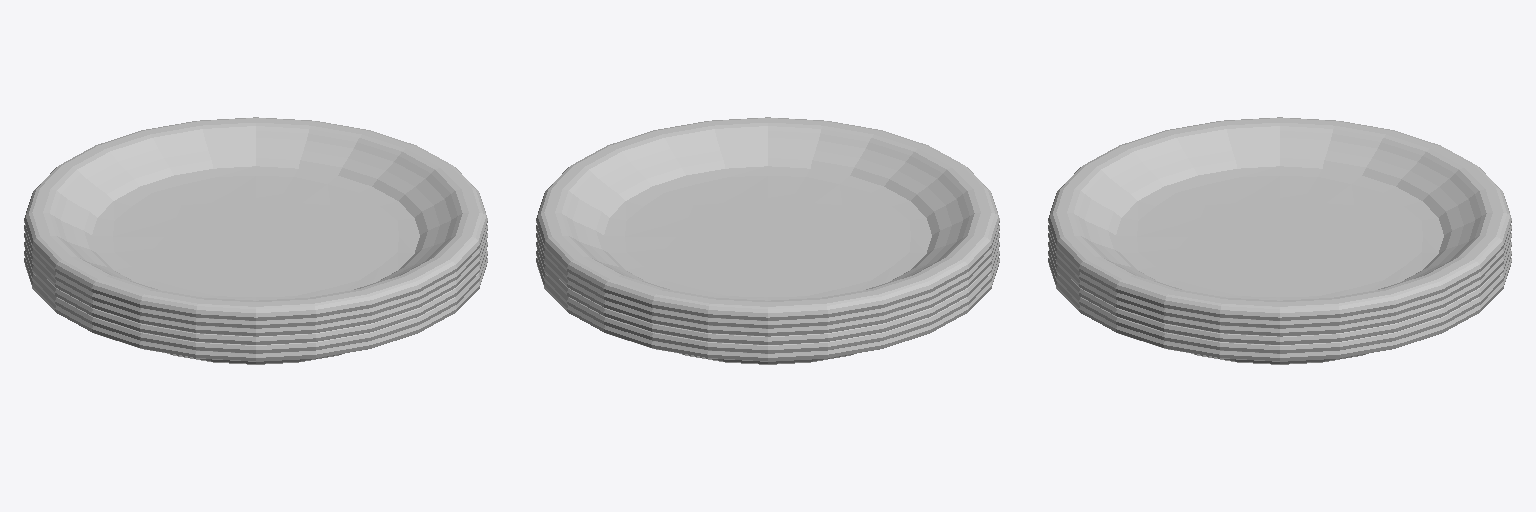
File: PlateStack.obj
The picture shows the model from 3 angles: view 1: azimuth 30°, elevation 25°; view 2: azimuth 150°, elevation 25°; view 3: azimuth 270°, elevation 25°; orthographic projection.
Visible parts, largest first — view 1: PaperPlate5, PaperPlate, PaperPlate2, PaperPlate1, PaperPlate3, PaperPlate4; view 2: PaperPlate5, PaperPlate, PaperPlate2, PaperPlate1, PaperPlate3, PaperPlate4; view 3: PaperPlate5, PaperPlate, PaperPlate2, PaperPlate1, PaperPlate3, PaperPlate4.
Boxes of the visible parts, x1=… form: PaperPlate5: x1=24, y1=117, x2=487, y2=320; PaperPlate: x1=24, y1=258, x2=487, y2=364; PaperPlate2: x1=24, y1=242, x2=487, y2=344; PaperPlate1: x1=24, y1=250, x2=487, y2=353; PaperPlate3: x1=24, y1=233, x2=487, y2=336; PaperPlate4: x1=24, y1=225, x2=487, y2=328; PaperPlate5: x1=536, y1=117, x2=999, y2=320; PaperPlate: x1=536, y1=258, x2=999, y2=364; PaperPlate2: x1=536, y1=242, x2=999, y2=344; PaperPlate1: x1=536, y1=250, x2=999, y2=353; PaperPlate3: x1=536, y1=233, x2=999, y2=336; PaperPlate4: x1=536, y1=225, x2=999, y2=328; PaperPlate5: x1=1048, y1=117, x2=1511, y2=320; PaperPlate: x1=1048, y1=258, x2=1511, y2=364; PaperPlate2: x1=1048, y1=242, x2=1511, y2=344; PaperPlate1: x1=1048, y1=250, x2=1511, y2=353; PaperPlate3: x1=1048, y1=233, x2=1511, y2=336; PaperPlate4: x1=1048, y1=225, x2=1511, y2=328.
Bounding box in the file's own units: 3.93 × 0.8127 × 3.93.